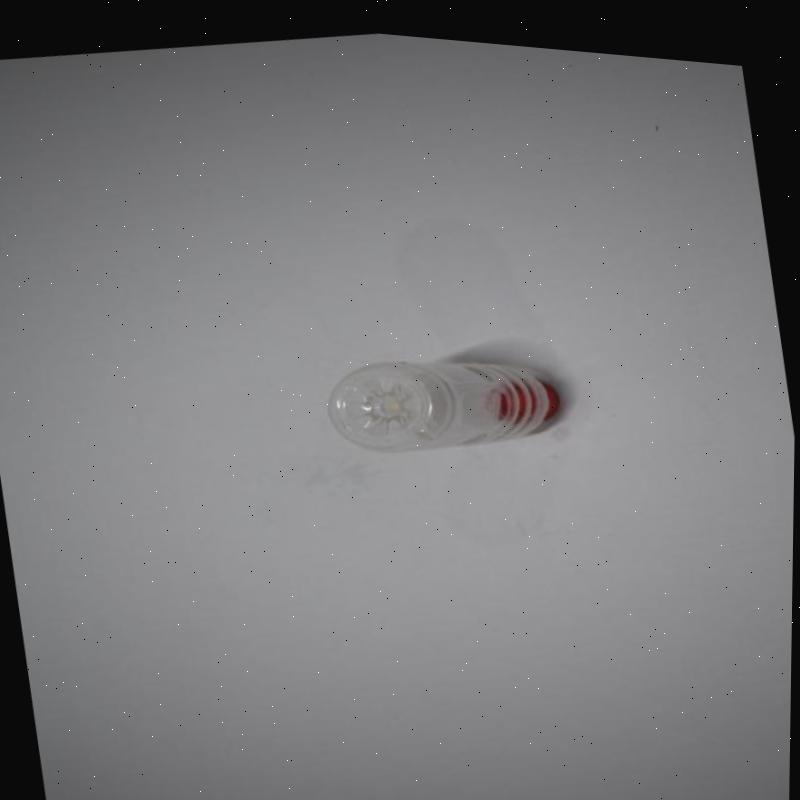botella: (323, 320, 566, 466)
